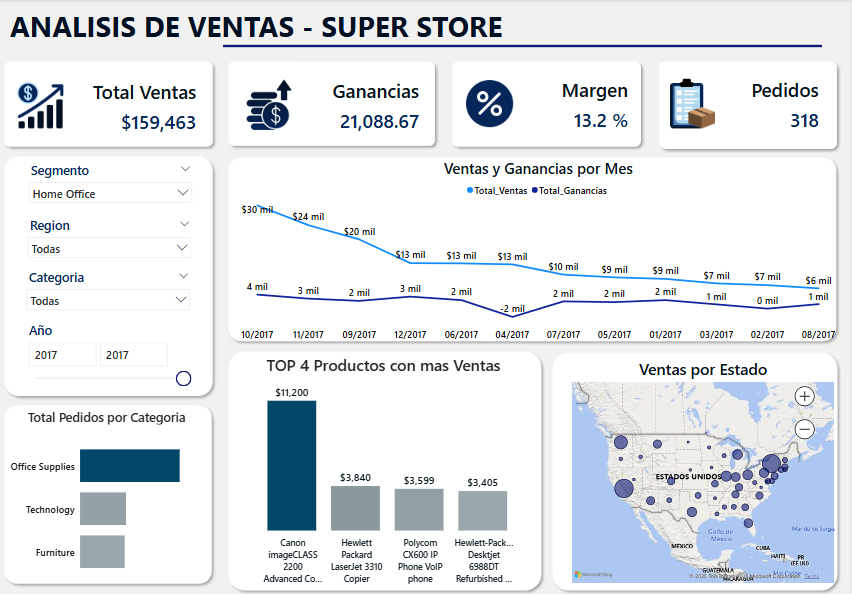

This screenshot's page, from the dashboard's own definition file:
{"tool":"powerbi","page":{"name":"Dashboard By Ariel V.","canvas":[1445,1015],"ordinal":0},"visuals":[{"type":"shape","box":[930.1,590.7,502.4,422.6],"z":0},{"type":"shape","box":[760.3,96.6,338.9,163.3],"z":1000},{"type":"shape","box":[0,96.7,371.7,163.3],"z":2000},{"type":"textbox","box":[13.6,6.8,996.3,76.4],"z":3000},{"type":"shape","box":[381,96.6,368.7,161.5],"z":4000},{"type":"shape","box":[1111.5,96.6,319.6,166.8],"z":5000},{"type":"cardVisual","fields":{"Data":["MedidaDAX.Total_Ventas"]},"box":[13.3,106.7,338.3,148.3],"z":6000},{"type":"shape","box":[381,259.9,1050,330.1],"z":7000},{"type":"cardVisual","fields":{"Data":["MedidaDAX.Total_Ganancias"]},"box":[398.6,105.4,331.9,149.2],"z":8000},{"type":"cardVisual","fields":{"Data":["MedidaDAX.%Ganancia"]},"box":[776.1,103.6,309,147.5],"z":9000},{"type":"cardVisual","fields":{"Data":["MedidaDAX.Total_Pedidos"]},"box":[1115,103.6,293.2,147.5],"z":10000},{"type":"lineChart","title":"Ventas y Ganancias por Mes","fields":{"Y":["MedidaDAX.Total_Ventas","MedidaDAX.Total_Ganancias"],"Category":["VentasSuperStore.MesAño"]},"box":[398.6,259.9,1032.4,330.1],"z":11000},{"type":"shape","box":[0,257.2,371.7,424.8],"z":12000},{"type":"shape","box":[0,681.3,370.5,321.3],"z":13000},{"type":"slicer","fields":{"Values":["VentasSuperStore.Segment"]},"box":[41.5,275.4,297,104.5],"z":14000},{"type":"slicer","fields":{"Values":["VentasSuperStore.Region"]},"box":[39.8,368.4,297,106.2],"z":15000},{"type":"slicer","fields":{"Values":["VentasSuperStore.Category"]},"box":[38.2,456.3,297,86.3],"z":16000},{"type":"slicer","fields":{"Values":["VentasSuperStore.Año"]},"box":[38.2,542.6,297,161],"z":17000},{"type":"shape","box":[380.2,589,549.9,424.3],"z":18000},{"type":"clusteredBarChart","title":"Total Pedidos por Categoria","fields":{"Category":["VentasSuperStore.Category"],"Y":["MedidaDAX.Total_Pedidos"]},"box":[13.6,694.2,337.8,308.9],"z":19000},{"type":"map","title":"Ventas por Estado","fields":{"Category":["VentasSuperStore.State"],"Size":["MedidaDAX.Total_Ventas"]},"box":[967.5,609.3,454.9,387],"z":20000},{"type":"clusteredColumnChart","title":"TOP 4 Productos con mas Ventas","fields":{"Category":["VentasSuperStore.Product Name"],"Y":["MedidaDAX.Total_Ventas"]},"box":[390.4,602.6,524.5,398.9],"z":21000},{"type":"shape","box":[380.2,76.4,1016.7,6.8],"z":22000}]}

Visuals, with their boxes in screenshot pixels (x1, y1, x2, y2), scaled from the page's 1445x1015 canvas onto the 852x594 screenshot:
shape: BBox(548, 346, 845, 593)
shape: BBox(448, 57, 648, 152)
shape: BBox(0, 57, 219, 152)
textbox: BBox(8, 4, 595, 49)
shape: BBox(225, 57, 442, 151)
shape: BBox(655, 57, 844, 154)
cardVisual - MedidaDAX.Total_Ventas: BBox(8, 62, 207, 149)
shape: BBox(225, 152, 844, 345)
cardVisual - MedidaDAX.Total_Ganancias: BBox(235, 62, 431, 149)
cardVisual - MedidaDAX.%Ganancia: BBox(458, 61, 640, 147)
cardVisual - MedidaDAX.Total_Pedidos: BBox(657, 61, 830, 147)
"Ventas y Ganancias por Mes" lineChart: BBox(235, 152, 844, 345)
shape: BBox(0, 151, 219, 399)
shape: BBox(0, 399, 218, 587)
slicer - VentasSuperStore.Segment: BBox(24, 161, 200, 222)
slicer - VentasSuperStore.Region: BBox(23, 216, 199, 278)
slicer - VentasSuperStore.Category: BBox(23, 267, 198, 318)
slicer - VentasSuperStore.Año: BBox(23, 318, 198, 412)
shape: BBox(224, 345, 548, 593)
"Total Pedidos por Categoria" clusteredBarChart: BBox(8, 406, 207, 587)
"Ventas por Estado" map: BBox(570, 357, 839, 583)
"TOP 4 Productos con mas Ventas" clusteredColumnChart: BBox(230, 353, 539, 586)
shape: BBox(224, 45, 824, 49)
